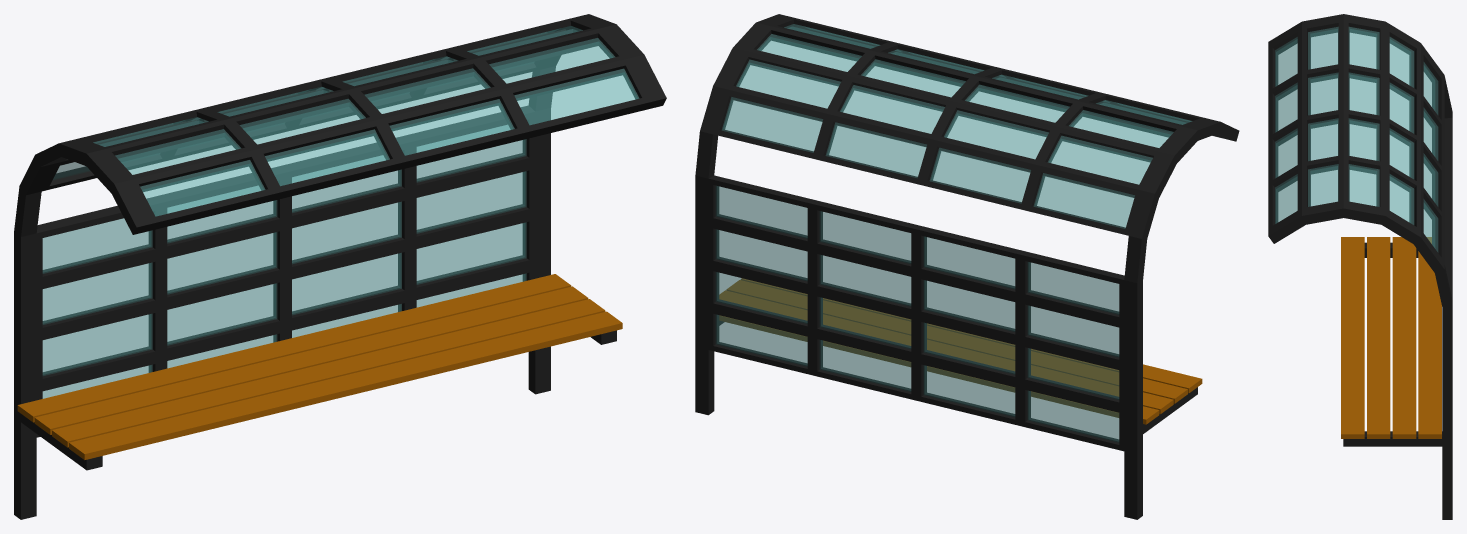
File: 29 Bus_stand.fbx
3 renders of one model, left to right at view 1: azimuth 30°, elevation 25°; view 2: azimuth 150°, elevation 25°; view 3: azimuth 270°, elevation 25°, orthographic. The views are drawn at different scales.
Visible parts, largest first — view 1: Bus_Stand; view 2: Bus_Stand; view 3: Bus_Stand.
Part boxes in pixels (box(x1,y1,x2,y2)): Bus_Stand: box(14, 14, 666, 519); Bus_Stand: box(695, 14, 1239, 519); Bus_Stand: box(1268, 14, 1452, 519).
Bounding box in the file's own units: 90.54 × 66.64 × 35.74.
